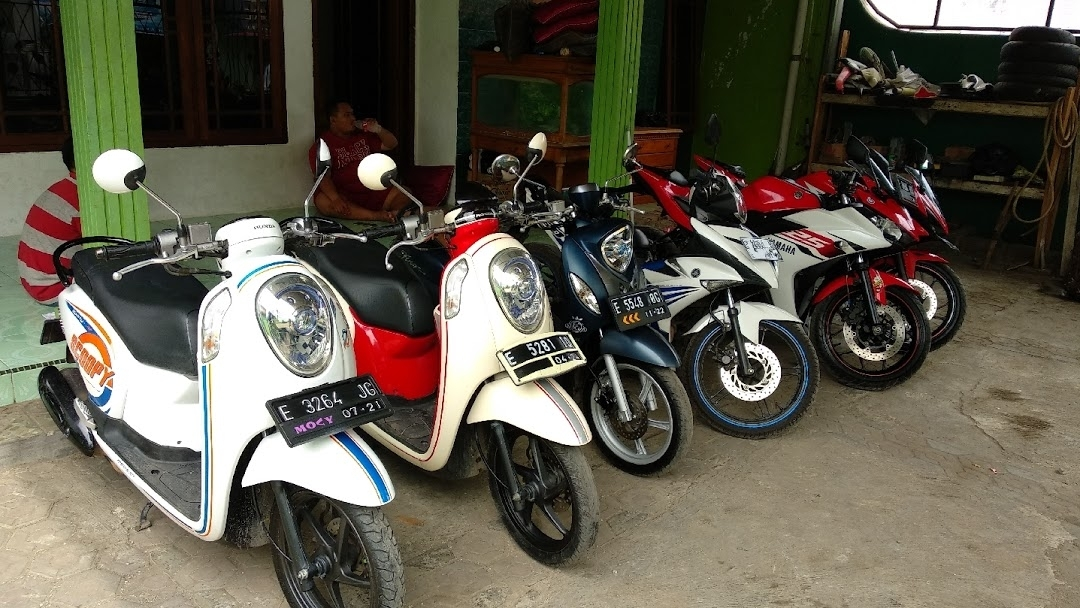plate: (269, 377, 390, 439), (498, 332, 586, 379), (609, 289, 672, 326)
